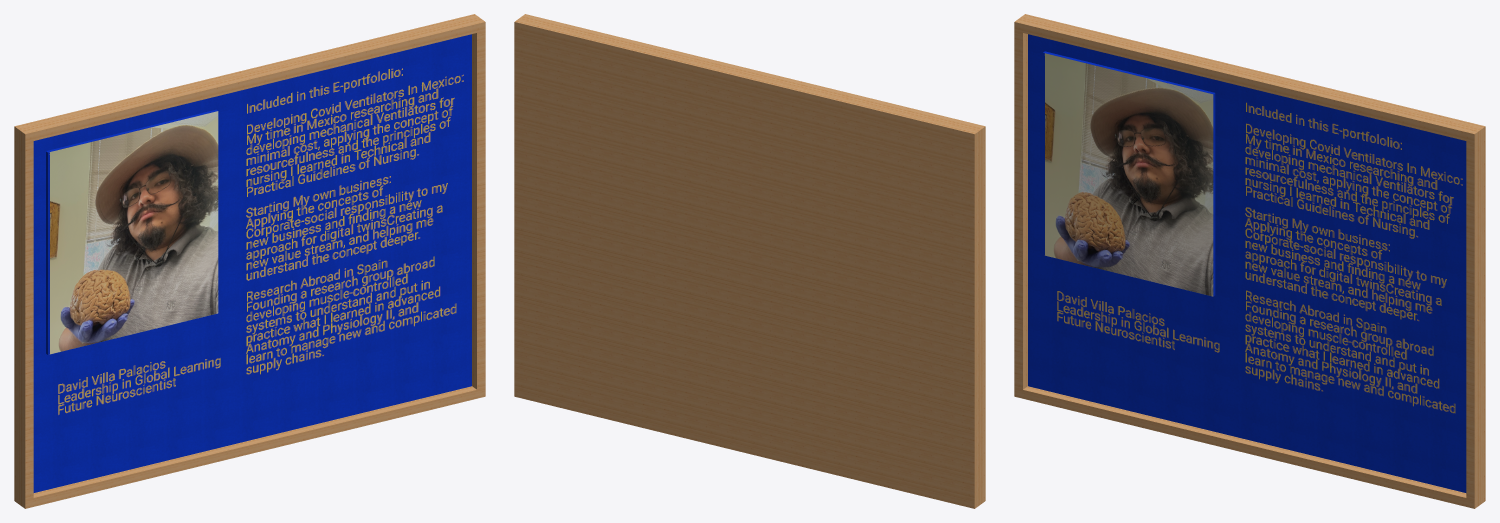
File: corkBoardTxt.glb
3 renders of one model, left to right at view 1: azimuth 30°, elevation 25°; view 2: azimuth 150°, elevation 25°; view 3: azimuth 330°, elevation 25°, orthographic.
Size of what is drawn, in the model's own units: 0.27 by 0.21 by 0.011.
Materials: 4 (4 with a texture image).
